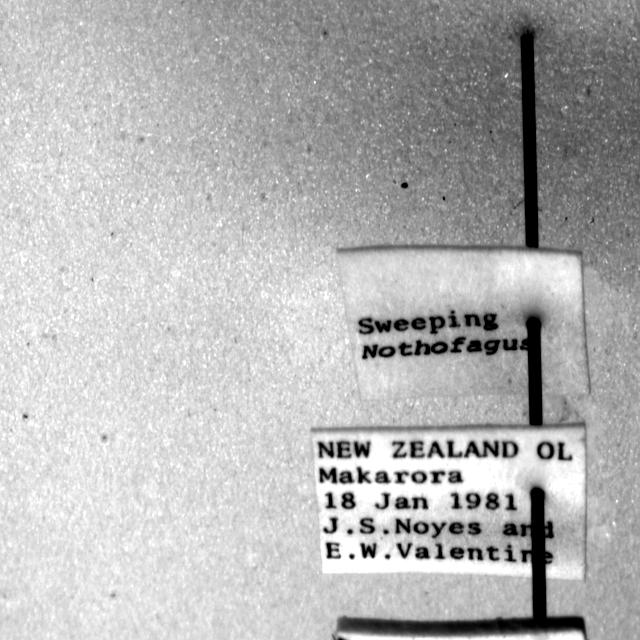typed_label: (312, 426, 586, 579), (338, 248, 590, 399)
